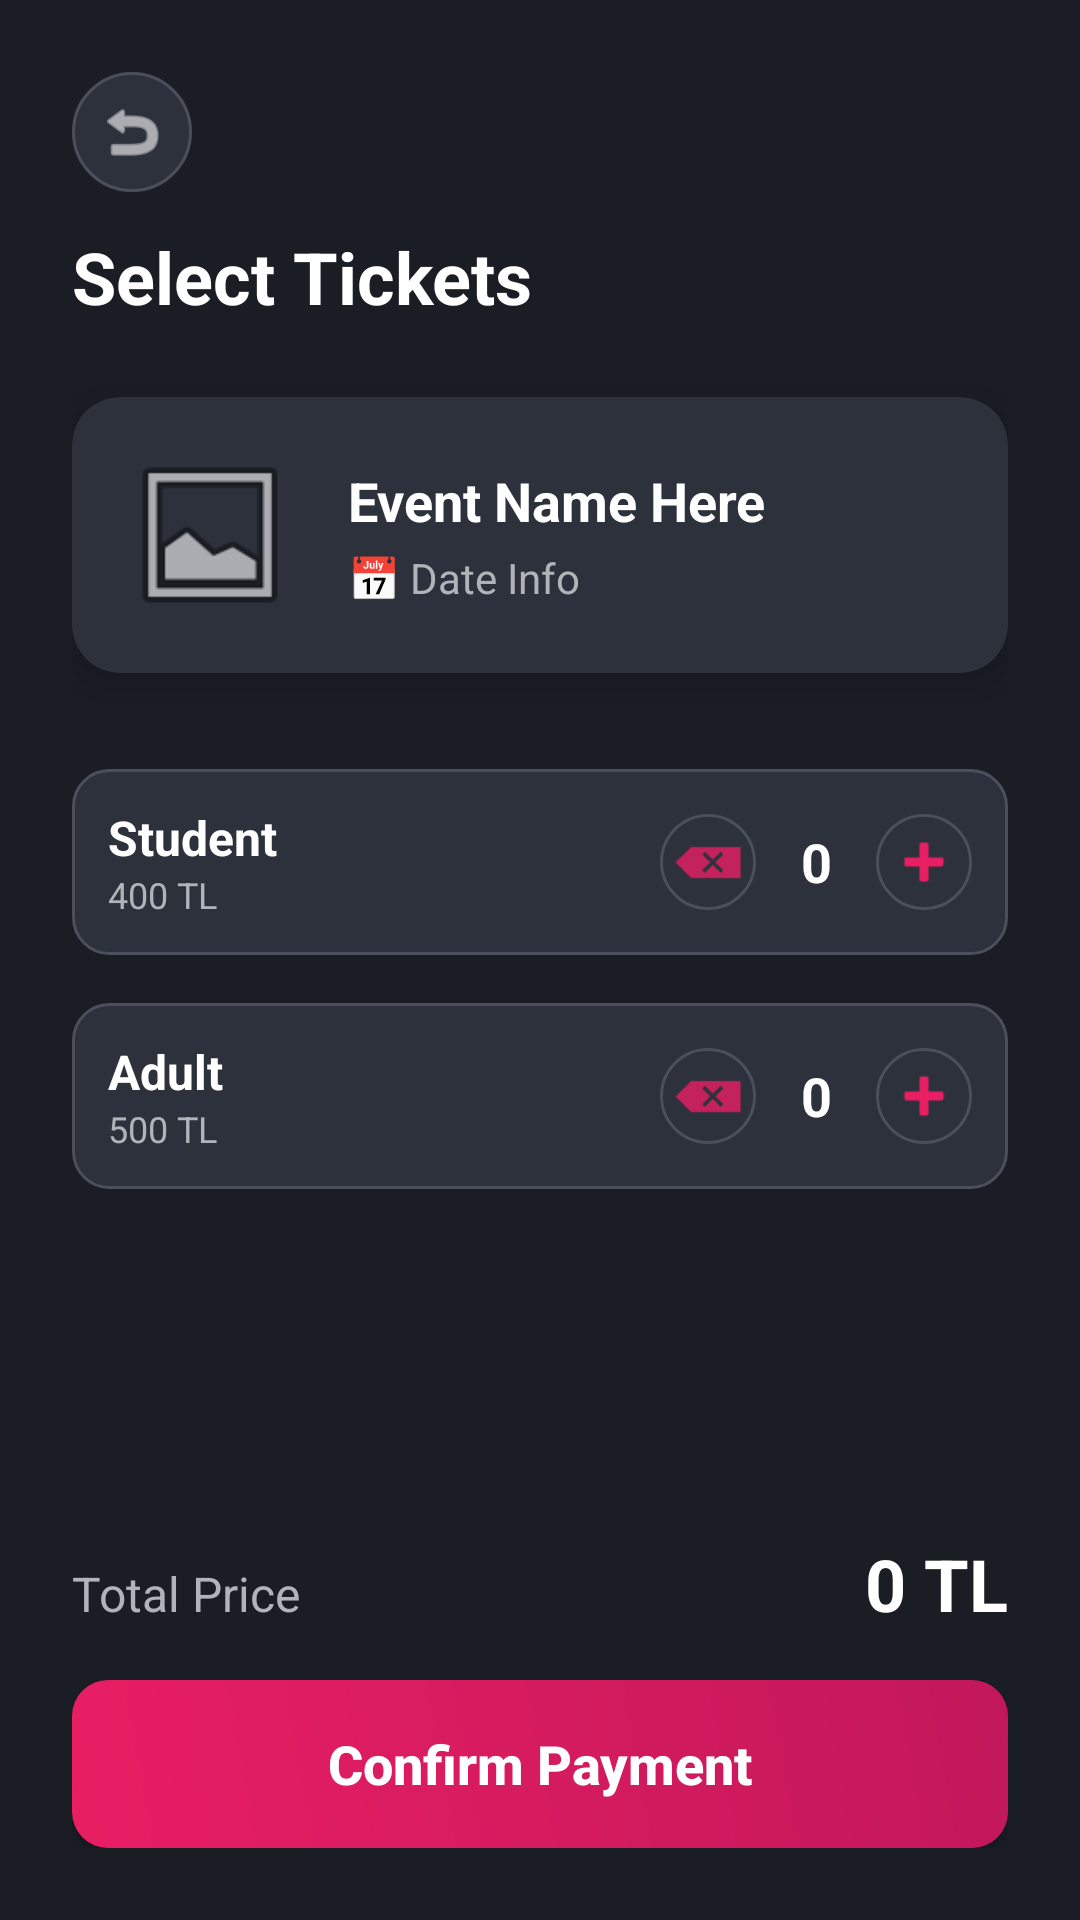

Named icons in this screenshot (1080*1920) and their bounding boxes, (x1, y1, x2, y2):
add: (876, 814, 972, 910), (876, 1048, 972, 1144)
delete: (660, 814, 756, 910), (660, 1048, 756, 1144)
gallery: (145, 470, 275, 600)
revert: (72, 72, 192, 192)
